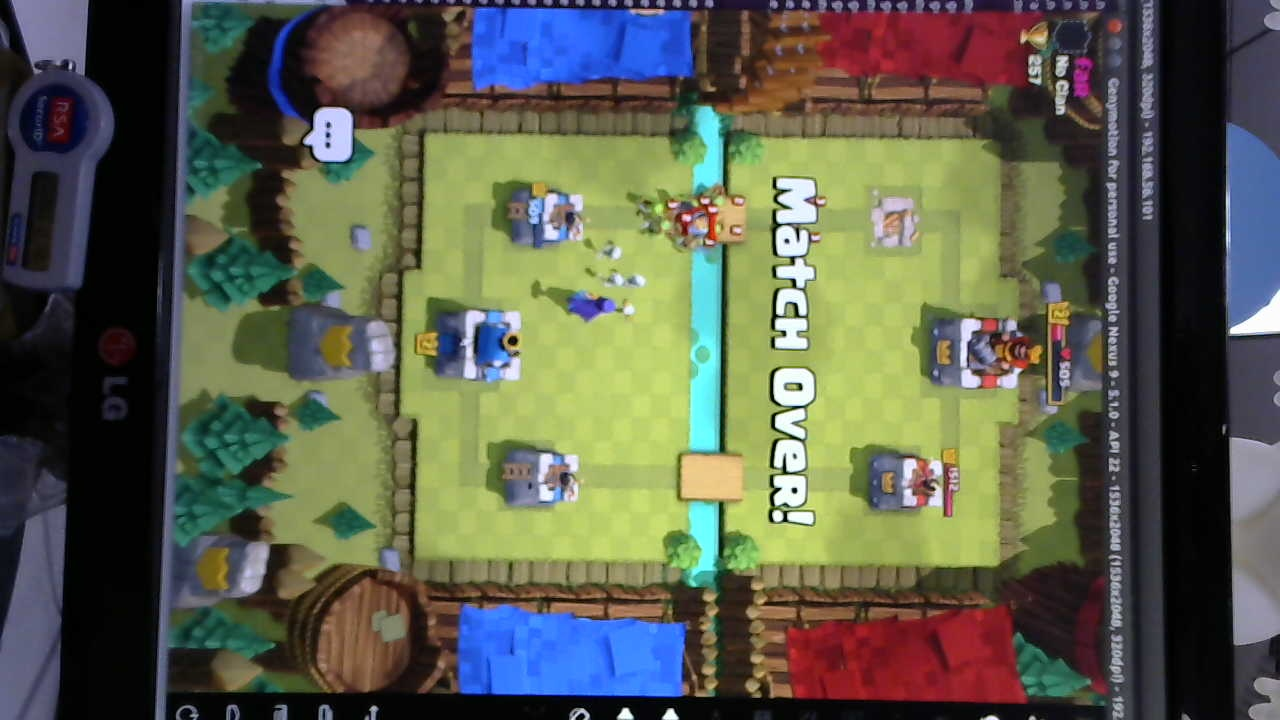arena: (504, 444, 588, 512), (516, 183, 584, 248)
darena: (866, 191, 924, 256)
earena: (863, 449, 944, 514)
eking: (921, 313, 1037, 393)
king: (425, 301, 529, 388)
knight: (668, 206, 718, 249)
skeleton: (593, 240, 645, 291)
speargoblin: (681, 181, 729, 207)
speargoblins: (637, 191, 682, 237)
witch: (558, 292, 622, 326)
